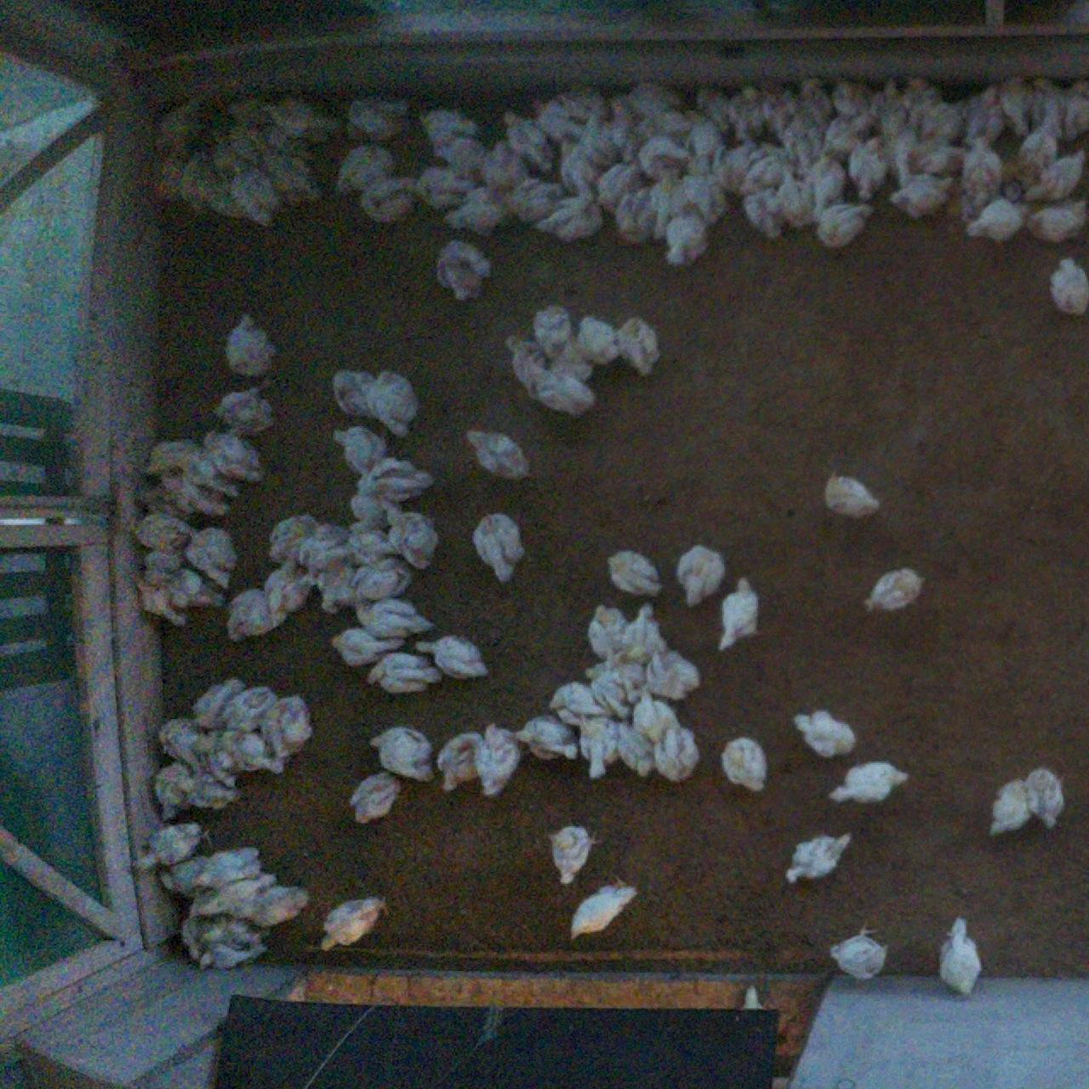chicken: (368, 725, 434, 784), (473, 512, 526, 584), (322, 897, 391, 952), (527, 366, 598, 419), (363, 369, 418, 437), (261, 95, 342, 141), (570, 884, 637, 939), (962, 136, 1003, 225), (130, 822, 211, 867), (939, 916, 983, 997), (830, 761, 909, 806), (414, 635, 491, 681), (1008, 130, 1057, 202), (785, 832, 852, 884), (532, 197, 603, 246), (501, 110, 555, 174), (224, 313, 277, 378), (830, 922, 887, 982), (214, 379, 274, 436), (1024, 149, 1087, 203), (184, 526, 237, 590), (265, 550, 310, 625), (354, 597, 438, 637), (436, 240, 491, 301), (200, 874, 278, 917), (159, 473, 231, 519), (475, 724, 520, 797), (143, 568, 225, 608), (466, 430, 529, 482), (226, 588, 288, 640), (507, 715, 577, 761), (824, 106, 884, 159), (202, 431, 263, 483), (719, 578, 761, 653), (368, 652, 443, 694), (550, 825, 602, 885), (260, 153, 320, 205), (261, 696, 312, 757), (676, 544, 726, 606), (421, 107, 483, 157), (230, 166, 281, 226), (360, 458, 434, 499), (439, 730, 487, 793), (444, 188, 507, 236), (481, 141, 529, 204), (190, 676, 247, 729), (889, 174, 955, 219), (794, 710, 857, 757), (167, 772, 241, 812), (335, 144, 396, 192), (329, 628, 406, 666), (362, 176, 422, 224), (966, 198, 1023, 248), (325, 530, 402, 567), (240, 887, 311, 927), (577, 716, 622, 778), (847, 136, 889, 202), (334, 425, 385, 479), (824, 470, 880, 519), (391, 512, 440, 568), (682, 109, 724, 174), (417, 166, 479, 210), (220, 686, 279, 732), (504, 179, 563, 225), (346, 97, 409, 140), (1026, 201, 1089, 244), (714, 142, 765, 195), (865, 568, 925, 613), (349, 771, 399, 825), (888, 112, 924, 187), (777, 163, 815, 234), (589, 665, 638, 720), (615, 316, 659, 377), (193, 847, 260, 887), (589, 602, 634, 661), (551, 678, 604, 727), (183, 449, 237, 497), (965, 86, 1006, 149), (608, 550, 664, 596), (557, 142, 602, 199), (908, 136, 969, 178), (134, 507, 192, 551), (646, 651, 699, 699), (193, 731, 237, 788), (817, 204, 874, 248), (269, 513, 318, 564), (153, 99, 205, 147), (654, 728, 699, 783), (300, 523, 349, 573), (636, 136, 688, 183), (745, 150, 797, 197), (218, 126, 276, 168), (721, 738, 766, 792), (632, 690, 679, 741), (626, 82, 684, 123), (529, 100, 584, 143), (354, 559, 413, 599), (599, 97, 637, 159), (136, 580, 185, 628), (743, 189, 787, 242), (505, 335, 548, 389), (230, 733, 285, 775), (1023, 767, 1059, 831), (664, 216, 710, 266), (990, 778, 1031, 834), (153, 761, 193, 818), (199, 166, 242, 219), (1049, 258, 1088, 316), (599, 164, 644, 214), (332, 369, 376, 420), (435, 135, 487, 178), (613, 194, 655, 247), (773, 118, 819, 166), (574, 316, 619, 365), (630, 605, 668, 663), (149, 153, 193, 203), (726, 85, 766, 140), (158, 717, 200, 769), (142, 439, 201, 476), (554, 85, 611, 123), (576, 118, 620, 167), (533, 304, 569, 363), (683, 174, 726, 223), (1029, 77, 1063, 138), (762, 91, 800, 145), (159, 857, 209, 898), (317, 563, 358, 613), (136, 485, 191, 522), (1000, 76, 1031, 140), (692, 83, 729, 135), (182, 150, 212, 214), (921, 101, 965, 143), (202, 944, 267, 972), (619, 725, 654, 776), (182, 918, 225, 959), (350, 493, 400, 528), (800, 77, 833, 130), (831, 78, 875, 117), (140, 550, 185, 588), (648, 185, 679, 240), (211, 138, 253, 177), (1063, 77, 1087, 143), (873, 79, 904, 130), (230, 94, 275, 128), (550, 346, 591, 383), (907, 86, 941, 128), (810, 171, 847, 209), (213, 921, 263, 949), (904, 77, 927, 125), (188, 887, 220, 916), (738, 985, 764, 1012)
